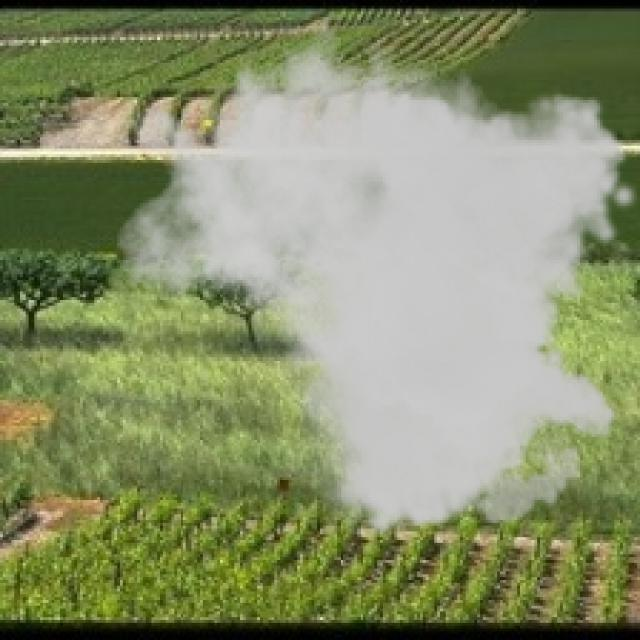Smoke: (114, 0, 637, 543)
